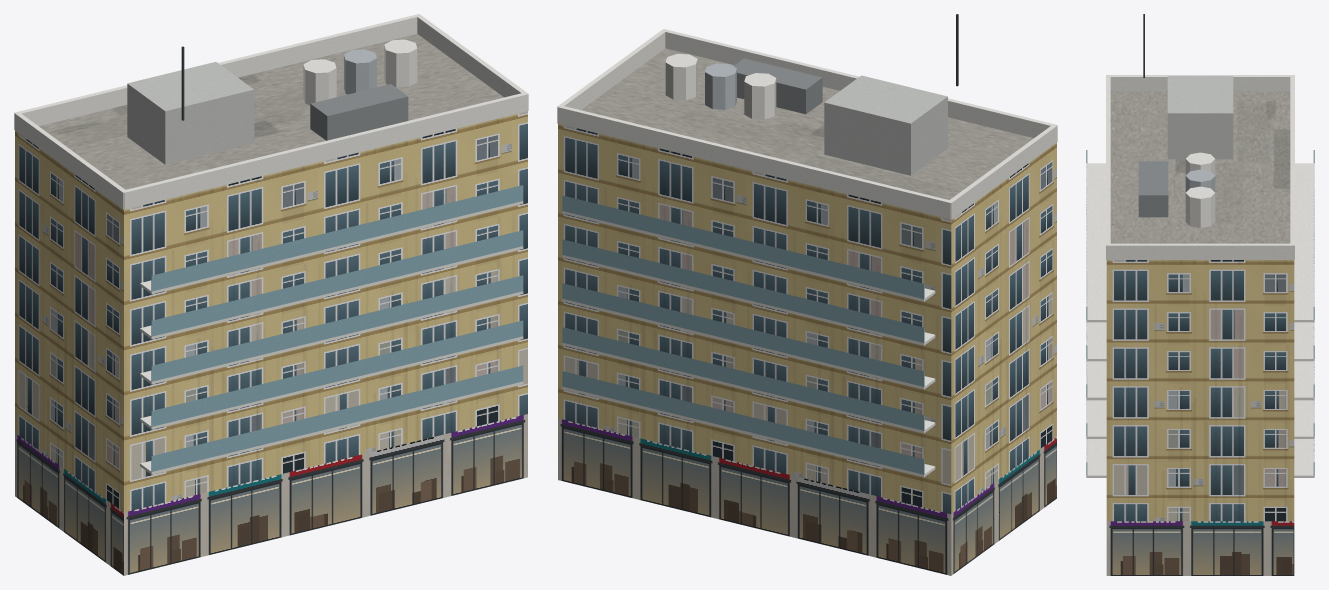
File: OW_CaoOc_TT_ChungCu_26.fbx
3 renders of one model, left to right at view 1: azimuth 30°, elevation 25°; view 2: azimuth 150°, elevation 25°; view 3: azimuth 270°, elevation 25°, orthographic. The views are drawn at different scales.
Parts seen in each view (by area): view 1: OW_CaoOc_TT_ChungCu_26_LOD0; view 2: OW_CaoOc_TT_ChungCu_26_LOD0; view 3: OW_CaoOc_TT_ChungCu_26_LOD0.
Boxes of the visible parts, x1=… form: OW_CaoOc_TT_ChungCu_26_LOD0: x1=14, y1=14, x2=528, y2=575; OW_CaoOc_TT_ChungCu_26_LOD0: x1=557, y1=14, x2=1057, y2=575; OW_CaoOc_TT_ChungCu_26_LOD0: x1=1086, y1=14, x2=1314, y2=575.
Size of what is drawn, in the model's own units: 30.1 by 35 by 17.
